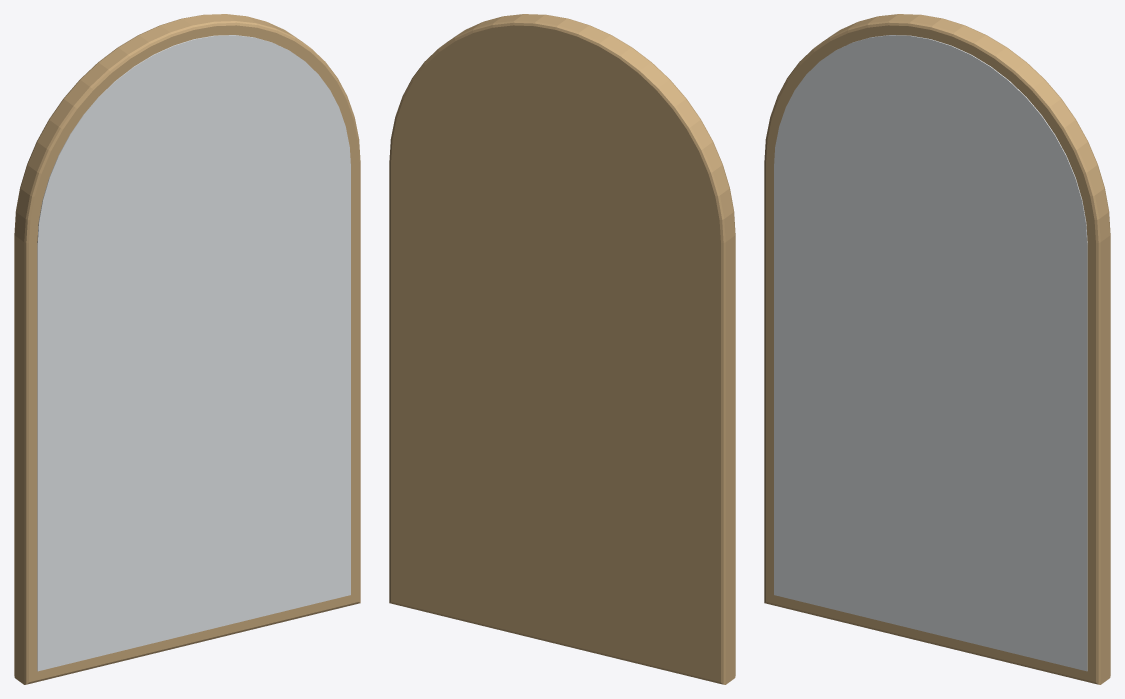
File: curated-arch-mirror.glb
3 views of the same model, side by side, from view 1: azimuth 30°, elevation 25°; view 2: azimuth 150°, elevation 25°; view 3: azimuth 330°, elevation 25° (orthographic).
Visible parts, largest first — view 1: ABI-MIR-08_Part_3, ABI-MIR-08_Part_2; view 2: ABI-MIR-08_Part_2; view 3: ABI-MIR-08_Part_3, ABI-MIR-08_Part_2.
Boxes of the visible parts, x1,y1,x2,y2 form: ABI-MIR-08_Part_3: (37,35,350,671); ABI-MIR-08_Part_2: (14,14,360,684); ABI-MIR-08_Part_2: (389,14,735,684); ABI-MIR-08_Part_3: (774,35,1087,671); ABI-MIR-08_Part_2: (764,14,1110,684).
Bounding box in the file's own units: 0.448 × 0.788 × 0.031.
